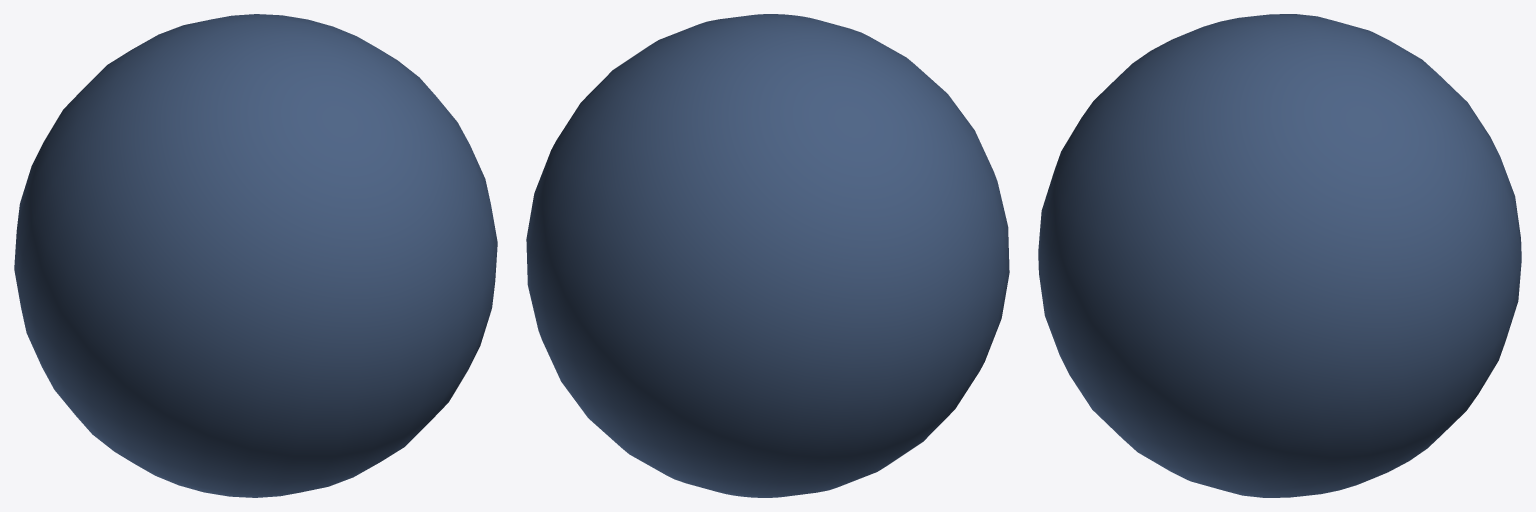
The model's file is planet1.fbx.
3 views of the same model, side by side, from view 1: azimuth 30°, elevation 25°; view 2: azimuth 150°, elevation 25°; view 3: azimuth 270°, elevation 25° (orthographic).
Parts seen in each view (by area): view 1: Sphere; view 2: Sphere; view 3: Sphere.
Part boxes in pixels (x1,y1,x2,y2): Sphere: (14, 14, 497, 497); Sphere: (526, 14, 1009, 497); Sphere: (1038, 14, 1521, 497).
Size of the model in its own units: 1.99 by 2 by 1.99.
